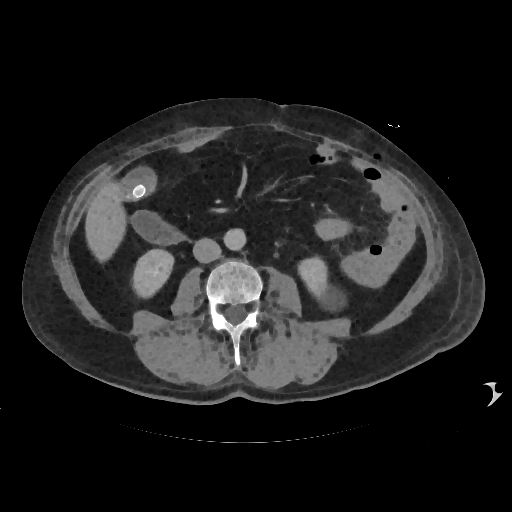Lesion: (314, 283, 349, 315)
